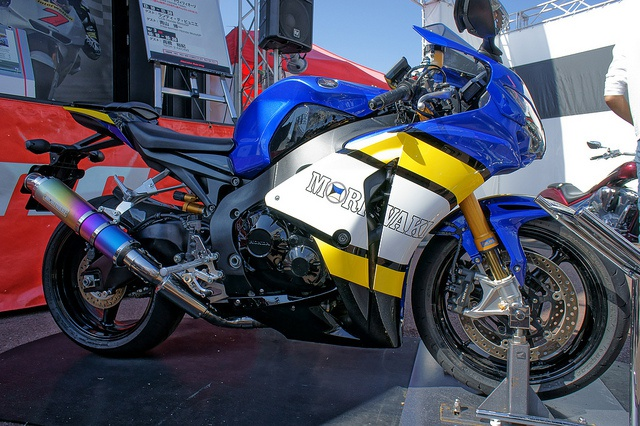non-vehicle: (18, 0, 630, 400), (541, 134, 640, 272)
